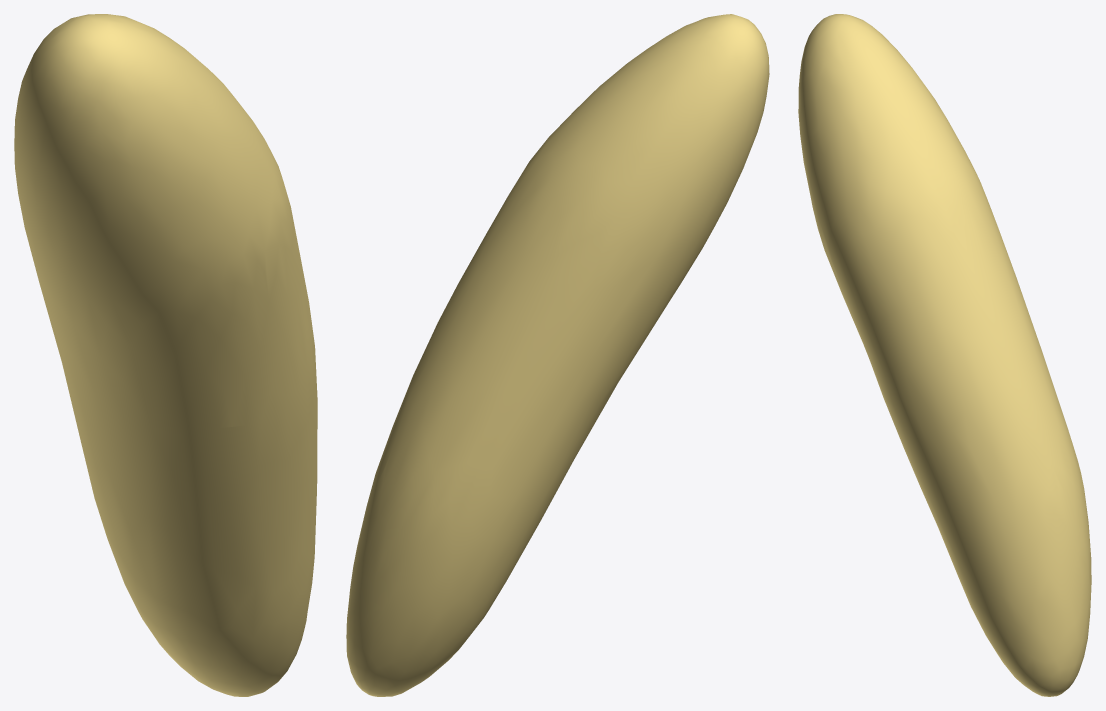
The model's file is fma73805_mm3525m.glb.
3 renders of one model, left to right at view 1: azimuth 30°, elevation 25°; view 2: azimuth 150°, elevation 25°; view 3: azimuth 270°, elevation 25°, orthographic. The views are drawn at different scales.
Visible parts, largest first — view 1: FMA73805_MM3525M; view 2: FMA73805_MM3525M; view 3: FMA73805_MM3525M.
Part boxes in pixels (<box>): FMA73805_MM3525M: <box>14,14,317,696</box>; FMA73805_MM3525M: <box>346,14,769,696</box>; FMA73805_MM3525M: <box>798,14,1091,696</box>.
Size of the model in its own units: 0.00559 by 0.0115 by 0.00527.
